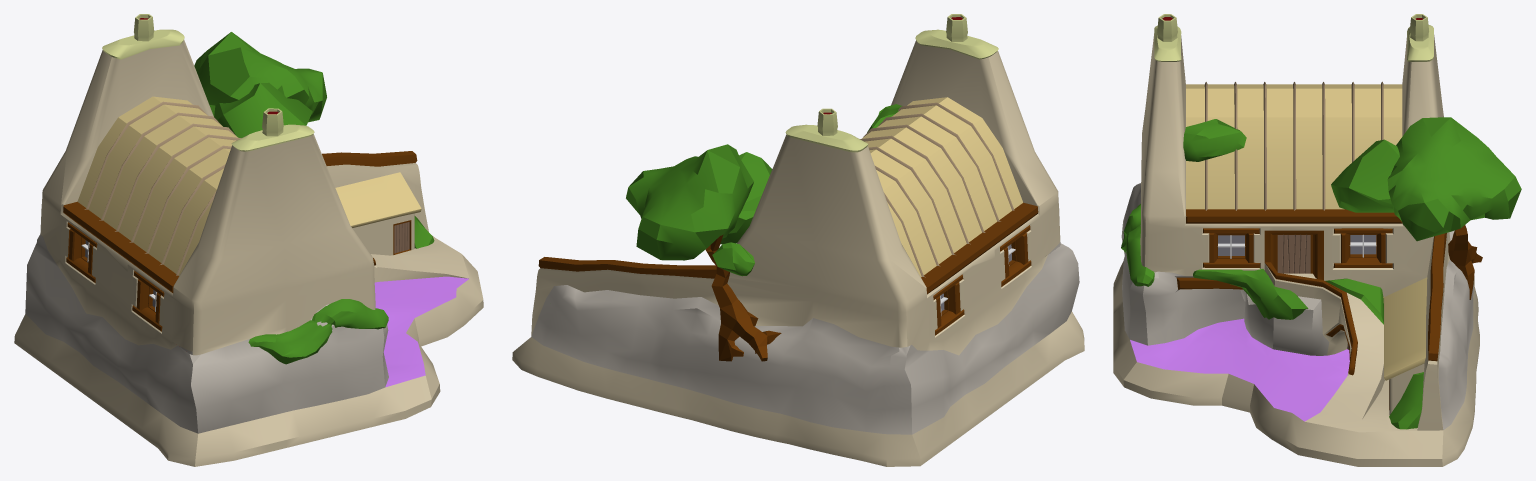
File: house.fbx
3 views of the same model, side by side, from view 1: azimuth 30°, elevation 25°; view 2: azimuth 150°, elevation 25°; view 3: azimuth 270°, elevation 25° (orthographic). The views are drawn at different scales.
Visible parts, largest first — view 1: house, leaves, moss; view 2: house, leaves, tree; view 3: house, leaves, moss, tree.
Part boxes in pixels (bbox=[...]): house: bbox=[14, 14, 483, 466]; leaves: bbox=[194, 32, 326, 137]; moss: bbox=[248, 216, 434, 364]; house: bbox=[512, 14, 1084, 466]; leaves: bbox=[626, 144, 772, 276]; tree: bbox=[705, 234, 781, 361]; house: bbox=[1113, 14, 1479, 466]; leaves: bbox=[1331, 117, 1521, 241]; moss: bbox=[1121, 119, 1423, 429]; tree: bbox=[1448, 225, 1482, 299].
Bounding box in the file's own units: 1099 × 785 × 951.
